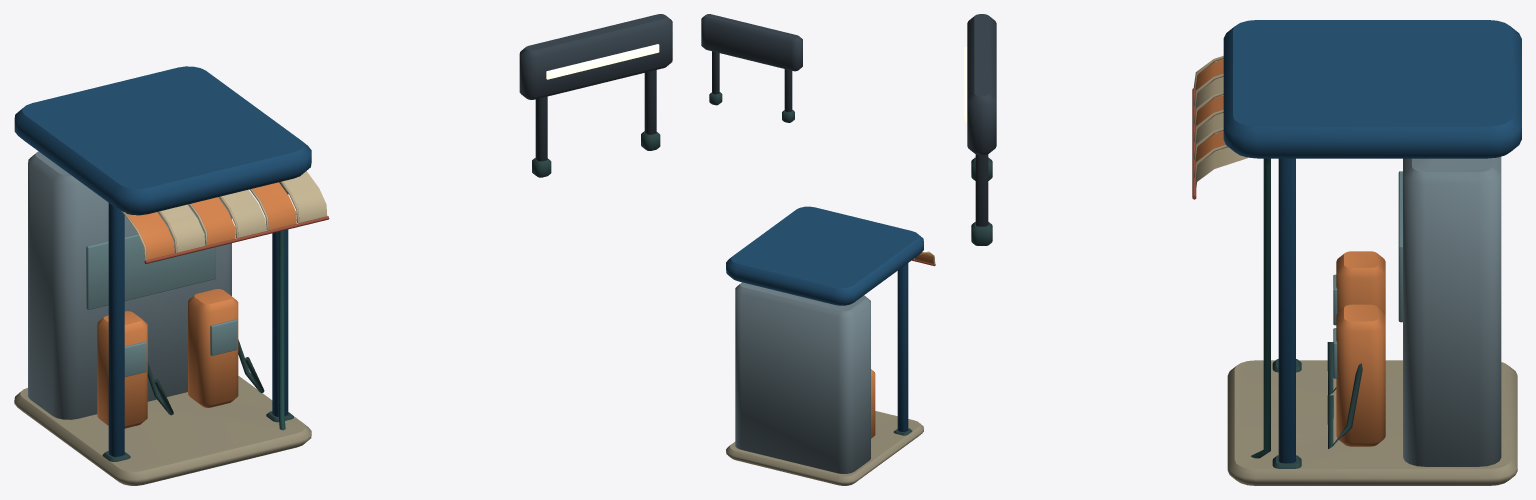
The model's file is metro_fuel_4.glb.
3 renders of one model, left to right at view 1: azimuth 30°, elevation 25°; view 2: azimuth 150°, elevation 25°; view 3: azimuth 270°, elevation 25°, orthographic. The views are drawn at different scales.
Parts seen in each view (by area): view 1: Fuel4; view 2: Fuel4; view 3: Fuel4.
Part boxes in pixels (bbox=[...]): Fuel4: bbox=[14, 14, 672, 485]; Fuel4: bbox=[701, 14, 935, 485]; Fuel4: bbox=[964, 14, 1521, 485].
Bounding box in the file's own units: 5.28 × 5.06 × 4.77.
